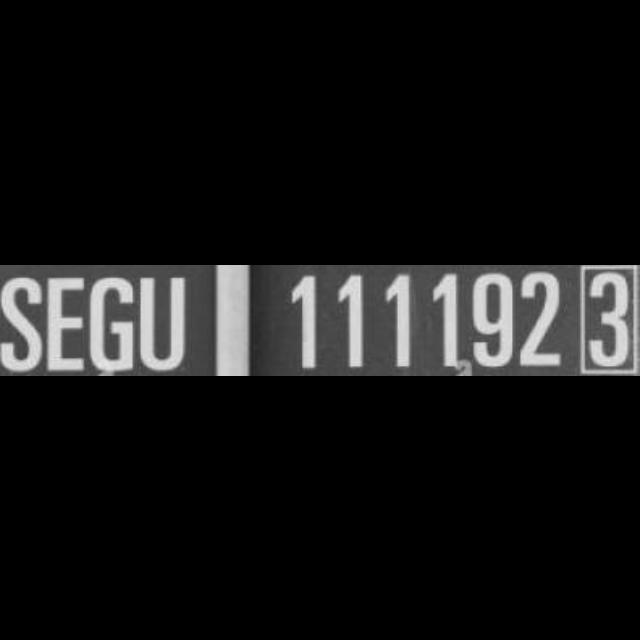1: (381, 264, 423, 376), (283, 265, 325, 375), (333, 267, 375, 375), (428, 264, 468, 376)
2: (516, 264, 572, 376)
3: (578, 266, 640, 376)
9: (467, 264, 518, 376)
e: (44, 270, 88, 376)
g: (88, 268, 138, 376)
s: (0, 271, 46, 375)
u: (134, 264, 192, 376)
